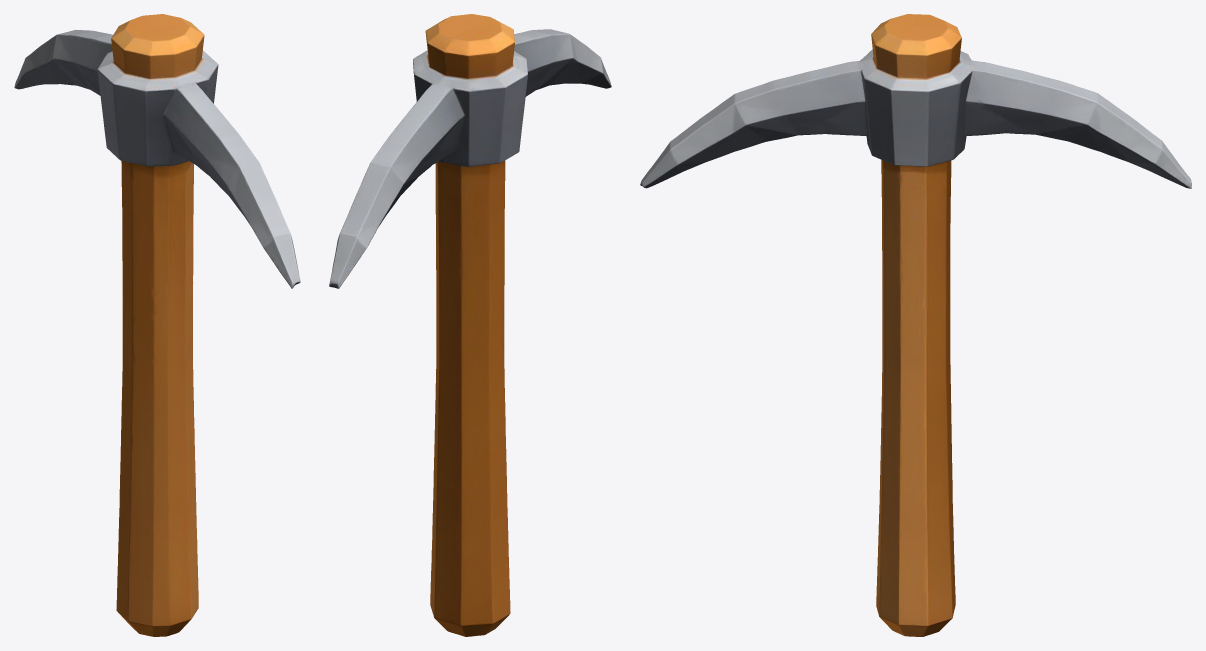
Rendered from Yardsweep-Pickaxe.glb.
3 views of the same model, side by side, from view 1: azimuth 30°, elevation 25°; view 2: azimuth 150°, elevation 25°; view 3: azimuth 270°, elevation 25° (orthographic).
Parts seen in each view (by area): view 1: tripo_node_338375f8-cb71-48fe-bd05-b9c900d5439b; view 2: tripo_node_338375f8-cb71-48fe-bd05-b9c900d5439b; view 3: tripo_node_338375f8-cb71-48fe-bd05-b9c900d5439b.
Part boxes in pixels (x1,y1,x2,y2): tripo_node_338375f8-cb71-48fe-bd05-b9c900d5439b: (14,14,300,636); tripo_node_338375f8-cb71-48fe-bd05-b9c900d5439b: (329,14,611,636); tripo_node_338375f8-cb71-48fe-bd05-b9c900d5439b: (640,14,1191,636).
Bounding box in the file's own units: 0.1786 × 1 × 0.8341.
Materials: 1 (1 with a texture image).
